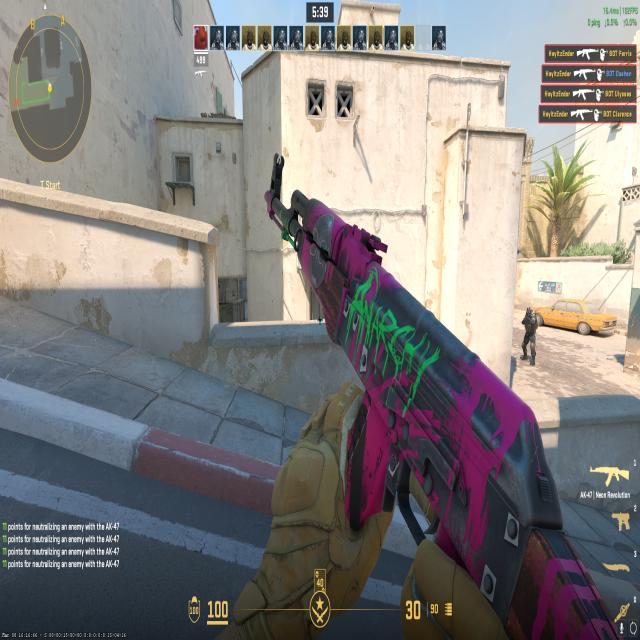ct: (518, 300, 538, 366)
